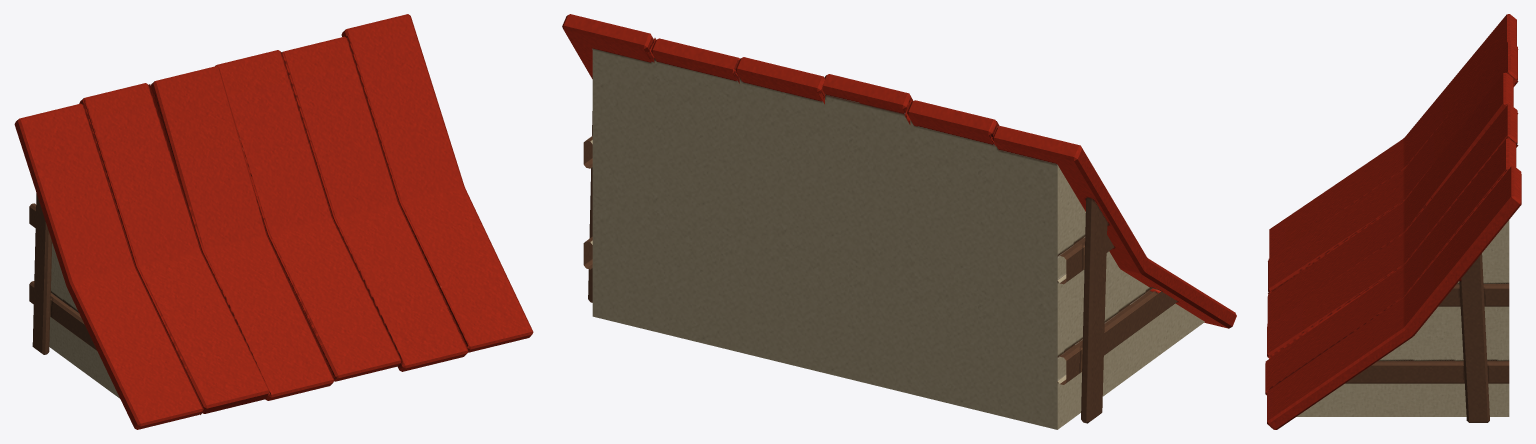
Rendered from roof_LOD0.fbx.
The picture shows the model from 3 angles, left to right: view 1: azimuth 30°, elevation 25°; view 2: azimuth 150°, elevation 25°; view 3: azimuth 270°, elevation 25°; orthographic projection. The views are drawn at different scales.
Parts seen in each view (by area): view 1: roof_LOD0; view 2: roof_LOD0; view 3: roof_LOD0.
Boxes of the visible parts, <box> form: roof_LOD0: <box>14,14,533,429</box>; roof_LOD0: <box>562,14,1236,429</box>; roof_LOD0: <box>1265,14,1521,429</box>.
Size of the model in its own units: 398 by 229 by 225.
